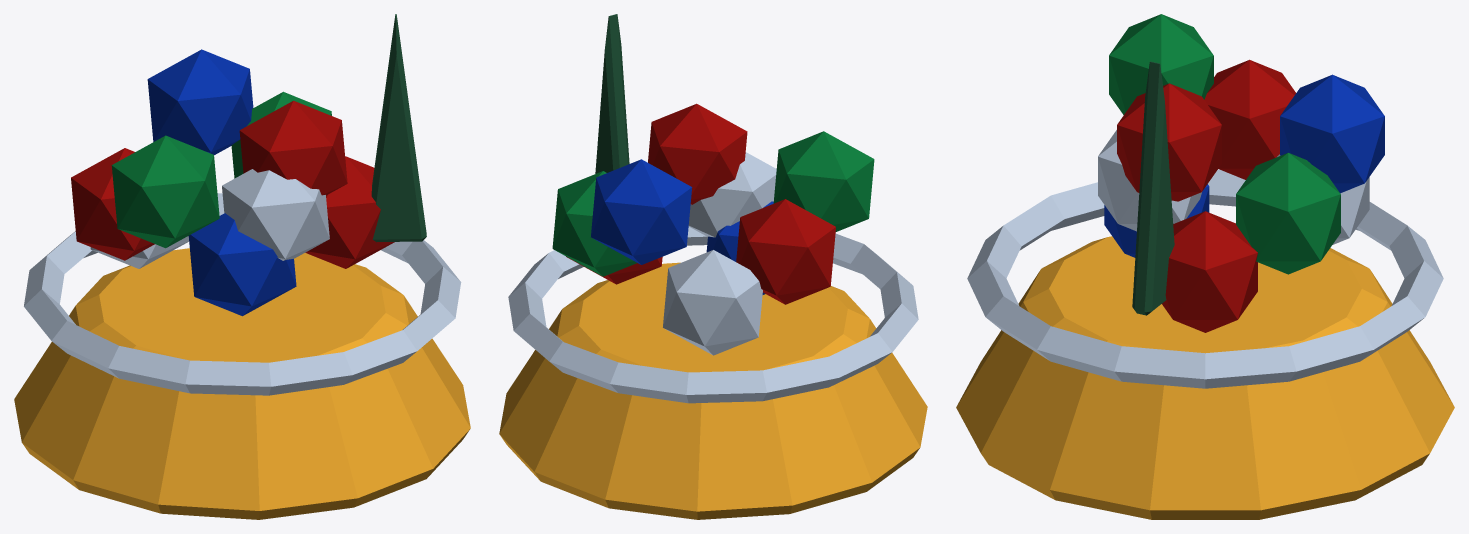
Rendered from ambrosia.obj.
3 renders of one model, left to right at view 1: azimuth 30°, elevation 25°; view 2: azimuth 150°, elevation 25°; view 3: azimuth 270°, elevation 25°, orthographic. The views are drawn at different scales.
Visible parts, largest first — view 1: Ambrosia_Bowl.001_MAT_BrightGold, Ambrosia_Rim.001_MAT_Pearl, Ambrosia_Fruit5.001_MAT_Emerald, Ambrosia_Fruit2.001_MAT_Sapphire, Ambrosia_Fruit8.001_MAT_Ruby, Ambrosia_Fruit6.001_MAT_Sapphire, Ambrosia_Leaf.001_MAT_ClothGreen, Ambrosia_Fruit7.001_MAT_Pearl, Ambrosia_Fruit0.001_MAT_Ruby, Ambrosia_Fruit4.001_MAT_Ruby, Ambrosia_Fruit1.001_MAT_Emerald, Ambrosia_Fruit3.001_MAT_Pearl; view 2: Ambrosia_Bowl.001_MAT_BrightGold, Ambrosia_Rim.001_MAT_Pearl, Ambrosia_Fruit2.001_MAT_Sapphire, Ambrosia_Fruit3.001_MAT_Pearl, Ambrosia_Fruit4.001_MAT_Ruby, Ambrosia_Fruit5.001_MAT_Emerald, Ambrosia_Fruit8.001_MAT_Ruby, Ambrosia_Fruit1.001_MAT_Emerald, Ambrosia_Fruit7.001_MAT_Pearl, Ambrosia_Leaf.001_MAT_ClothGreen, Ambrosia_Fruit6.001_MAT_Sapphire, Ambrosia_Fruit0.001_MAT_Ruby; view 3: Ambrosia_Bowl.001_MAT_BrightGold, Ambrosia_Rim.001_MAT_Pearl, Ambrosia_Fruit1.001_MAT_Emerald, Ambrosia_Fruit0.001_MAT_Ruby, Ambrosia_Fruit2.001_MAT_Sapphire, Ambrosia_Leaf.001_MAT_ClothGreen, Ambrosia_Fruit8.001_MAT_Ruby, Ambrosia_Fruit4.001_MAT_Ruby, Ambrosia_Fruit5.001_MAT_Emerald, Ambrosia_Fruit7.001_MAT_Pearl, Ambrosia_Fruit3.001_MAT_Pearl, Ambrosia_Fruit6.001_MAT_Sapphire.
Boxes of the visible parts, <box> form: Ambrosia_Bowl.001_MAT_BrightGold: <box>14,248,470,519</box>; Ambrosia_Rim.001_MAT_Pearl: <box>24,193,461,395</box>; Ambrosia_Fruit5.001_MAT_Emerald: <box>111,135,219,248</box>; Ambrosia_Fruit2.001_MAT_Sapphire: <box>147,49,253,155</box>; Ambrosia_Fruit8.001_MAT_Ruby: <box>239,100,347,195</box>; Ambrosia_Fruit6.001_MAT_Sapphire: <box>188,213,296,316</box>; Ambrosia_Leaf.001_MAT_ClothGreen: <box>371,14,426,242</box>; Ambrosia_Fruit7.001_MAT_Pearl: <box>222,169,329,260</box>; Ambrosia_Fruit0.001_MAT_Ruby: <box>305,156,394,268</box>; Ambrosia_Fruit4.001_MAT_Ruby: <box>71,148,154,260</box>; Ambrosia_Fruit1.001_MAT_Emerald: <box>231,91,331,178</box>; Ambrosia_Fruit3.001_MAT_Pearl: <box>90,236,189,268</box>; Ambrosia_Bowl.001_MAT_BrightGold: <box>499,262,927,519</box>; Ambrosia_Rim.001_MAT_Pearl: <box>508,227,918,403</box>; Ambrosia_Fruit2.001_MAT_Sapphire: <box>591,159,692,264</box>; Ambrosia_Fruit3.001_MAT_Pearl: <box>663,250,762,355</box>; Ambrosia_Fruit4.001_MAT_Ruby: <box>736,199,835,304</box>; Ambrosia_Fruit5.001_MAT_Emerald: <box>773,131,874,231</box>; Ambrosia_Fruit8.001_MAT_Ruby: <box>648,103,747,204</box>; Ambrosia_Fruit1.001_MAT_Emerald: <box>552,171,636,276</box>; Ambrosia_Fruit7.001_MAT_Pearl: <box>688,152,776,237</box>; Ambrosia_Leaf.001_MAT_ClothGreen: <box>595,14,629,173</box>; Ambrosia_Fruit6.001_MAT_Sapphire: <box>706,201,773,294</box>; Ambrosia_Fruit0.001_MAT_Ruby: <box>566,256,662,284</box>; Ambrosia_Bowl.001_MAT_BrightGold: <box>956,236,1454,519</box>; Ambrosia_Rim.001_MAT_Pearl: <box>967,169,1443,388</box>; Ambrosia_Fruit1.001_MAT_Emerald: <box>1236,152,1340,274</box>; Ambrosia_Fruit0.001_MAT_Ruby: <box>1162,211,1257,332</box>; Ambrosia_Fruit2.001_MAT_Sapphire: <box>1280,74,1384,193</box>; Ambrosia_Leaf.001_MAT_ClothGreen: <box>1132,61,1174,315</box>; Ambrosia_Fruit8.001_MAT_Ruby: <box>1117,83,1221,201</box>; Ambrosia_Fruit4.001_MAT_Ruby: <box>1204,59,1295,179</box>; Ambrosia_Fruit5.001_MAT_Emerald: <box>1109,14,1213,114</box>; Ambrosia_Fruit7.001_MAT_Pearl: <box>1098,130,1201,231</box>; Ambrosia_Fruit3.001_MAT_Pearl: <box>1277,154,1369,244</box>; Ambrosia_Fruit6.001_MAT_Sapphire: <box>1104,184,1209,257</box>.
Bounding box in the file's own units: 1.74 × 1.68 × 1.78.
